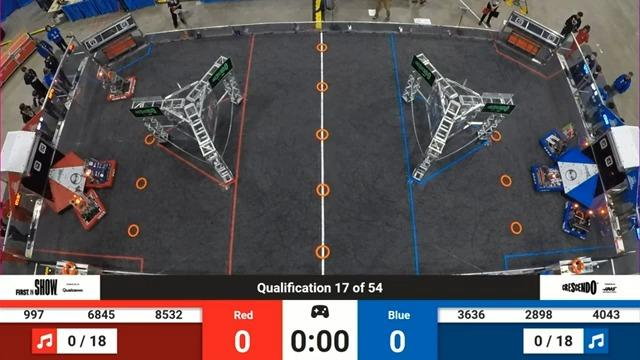robot: (68, 187, 109, 231), (560, 201, 596, 240), (101, 70, 142, 104), (535, 159, 566, 201), (81, 156, 118, 191), (537, 124, 571, 161)
